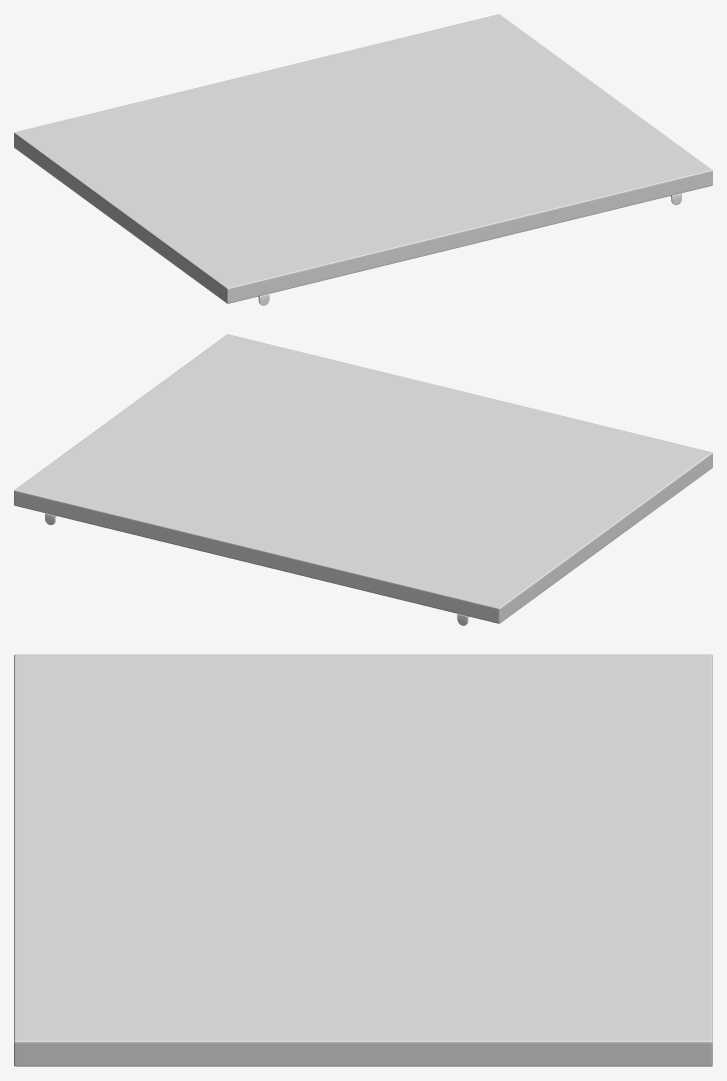
The model's file is SM_Kitchen_02_Shelf.dae.
3 views of the same model, one above another, from view 1: azimuth 30°, elevation 25°; view 2: azimuth 150°, elevation 25°; view 3: azimuth 270°, elevation 25° (orthographic). The views are drawn at different scales.
Parts seen in each view (by area): view 1: SM_Kitchen_02_Shelf; view 2: SM_Kitchen_02_Shelf; view 3: SM_Kitchen_02_Shelf.
Boxes of the visible parts, bbox=[...] form: SM_Kitchen_02_Shelf: bbox=[14, 14, 712, 305]; SM_Kitchen_02_Shelf: bbox=[14, 334, 712, 625]; SM_Kitchen_02_Shelf: bbox=[14, 654, 712, 1066].
Bounding box in the file's own units: 0.4829 × 0.368 × 0.0249.
Materials: 2 (2 with a texture image).
